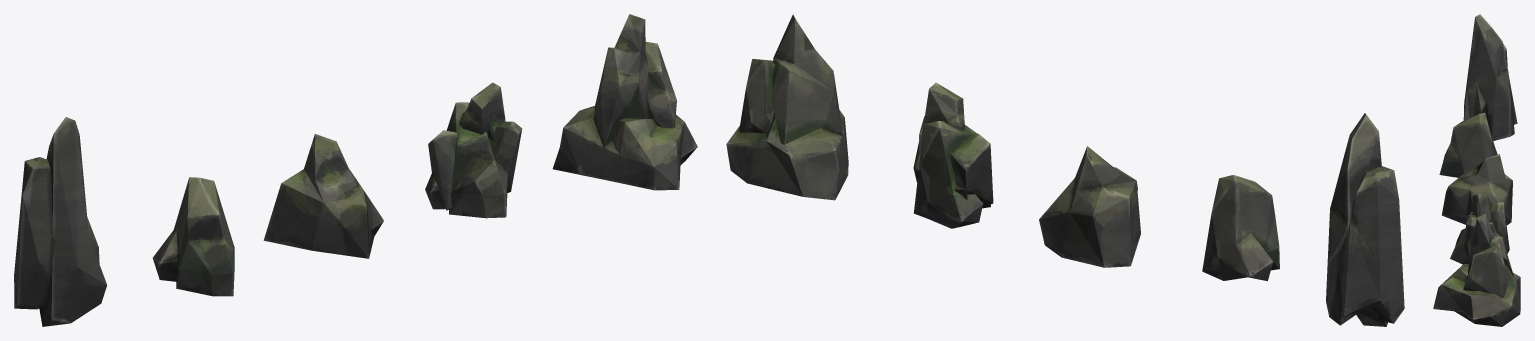
Rendered from rocks_lod.glb.
3 renders of one model, left to right at view 1: azimuth 30°, elevation 25°; view 2: azimuth 150°, elevation 25°; view 3: azimuth 270°, elevation 25°, orthographic. The views are drawn at different scales.
Parts seen in each view (by area): view 1: Rock_5, Rock_4, Rock_3, Rock_2, Rock_1; view 2: Rock_5, Rock_4, Rock_3, Rock_2, Rock_1; view 3: Rock_5, Rock_4, Rock_2, Rock_1, Rock_3.
Boxes of the visible parts, box(x1,y1,x2,y2) form: Rock_5: box(552, 14, 697, 190); Rock_4: box(14, 117, 106, 326); Rock_3: box(425, 82, 522, 218); Rock_2: box(263, 134, 383, 258); Rock_1: box(152, 177, 234, 296); Rock_5: box(726, 14, 848, 200); Rock_4: box(1326, 113, 1404, 326); Rock_3: box(913, 82, 993, 228); Rock_2: box(1039, 146, 1140, 267); Rock_1: box(1202, 175, 1279, 281); Rock_5: box(1433, 213, 1520, 326); Rock_4: box(1463, 14, 1517, 140); Rock_2: box(1441, 154, 1512, 225); Rock_1: box(1439, 113, 1497, 177); Rock_3: box(1450, 192, 1509, 264).
Bounding box in the file's own units: 7.27 × 2.15 × 1.31.
1 material, 1 textured.
